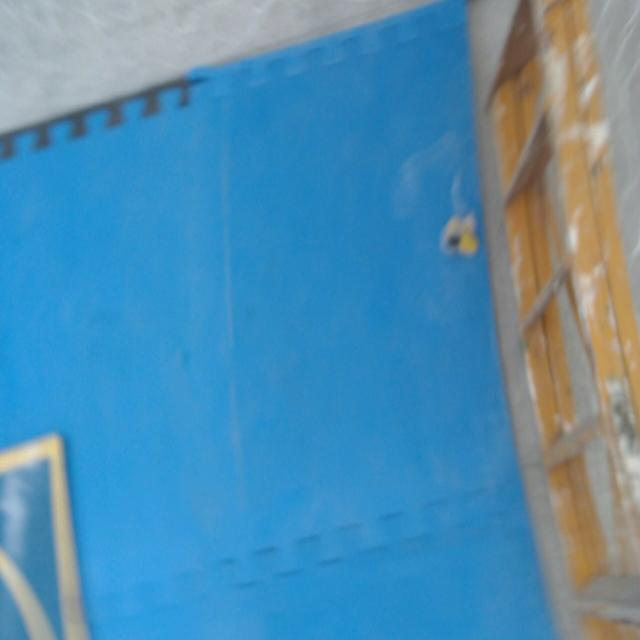base_pouso: (0, 433, 89, 639)
